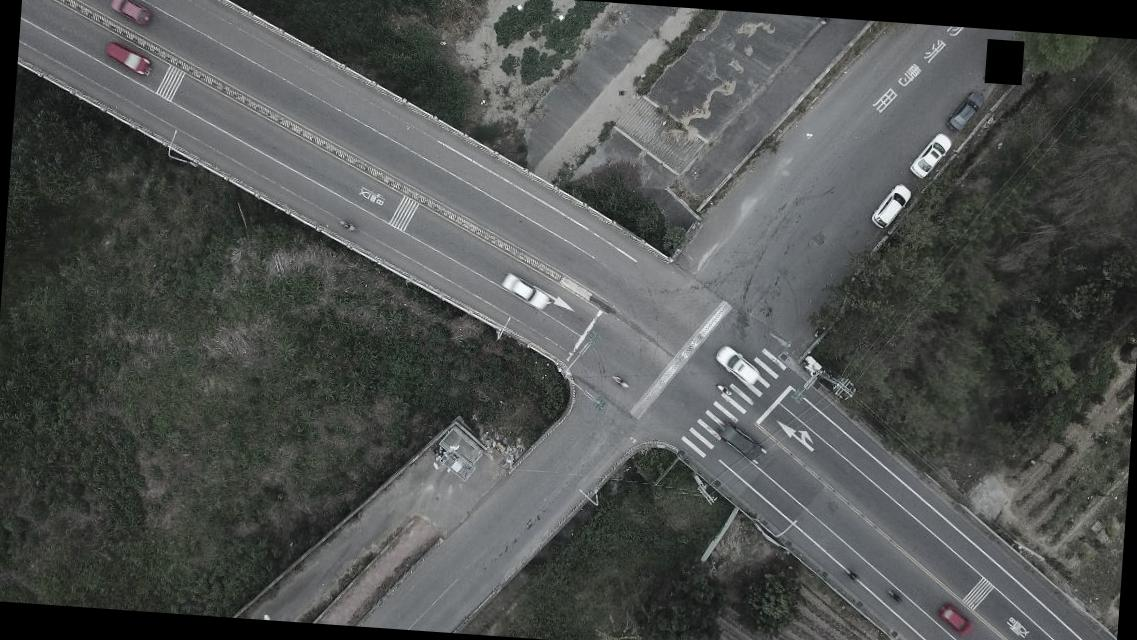vehicle: (869, 180, 913, 232), (910, 132, 952, 182), (714, 344, 762, 386), (102, 42, 155, 78), (501, 272, 551, 310), (717, 426, 766, 463), (946, 91, 985, 133), (937, 602, 976, 638), (108, 0, 152, 29)
